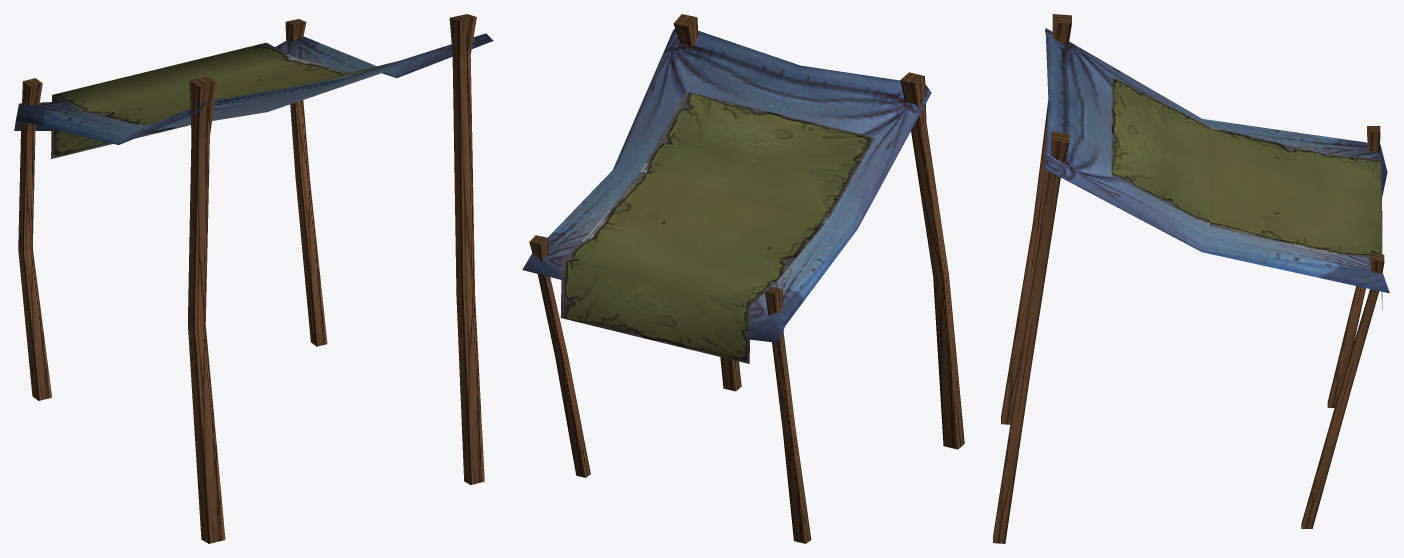
File: 2_WGJ_PengZi_01.FBX
3 renders of one model, left to right at view 1: azimuth 30°, elevation 25°; view 2: azimuth 150°, elevation 25°; view 3: azimuth 270°, elevation 25°, orthographic. The views are drawn at different scales.
Visible parts, largest first — view 1: 2_WGJ_PengZi_01, 2_WGJ_PengZi_02; view 2: 2_WGJ_PengZi_02, 2_WGJ_PengZi_01; view 3: 2_WGJ_PengZi_01, 2_WGJ_PengZi_02.
Part boxes in pixels (bbox=[...]): 2_WGJ_PengZi_01: bbox=[14, 14, 493, 543]; 2_WGJ_PengZi_02: bbox=[51, 42, 395, 158]; 2_WGJ_PengZi_02: bbox=[560, 91, 874, 363]; 2_WGJ_PengZi_01: bbox=[522, 14, 964, 543]; 2_WGJ_PengZi_01: bbox=[993, 14, 1389, 543]; 2_WGJ_PengZi_02: bbox=[1111, 76, 1382, 309].
Bounding box in the file's own units: 454 × 617 × 534.
